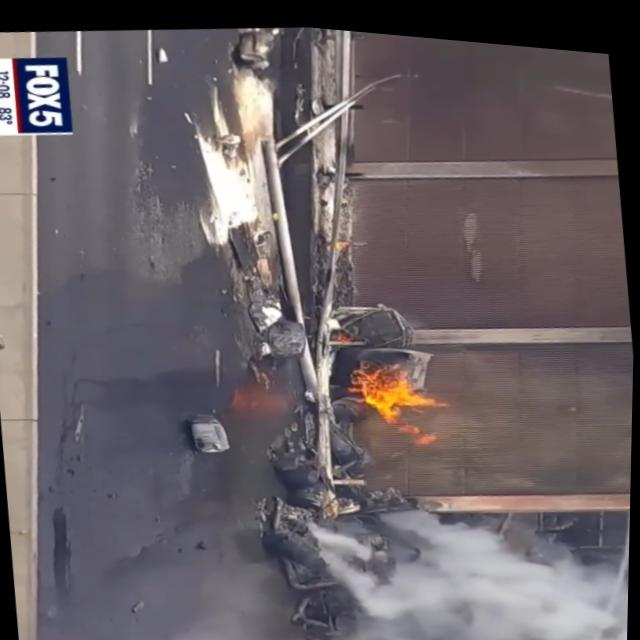Fire: (355, 366, 449, 445)
